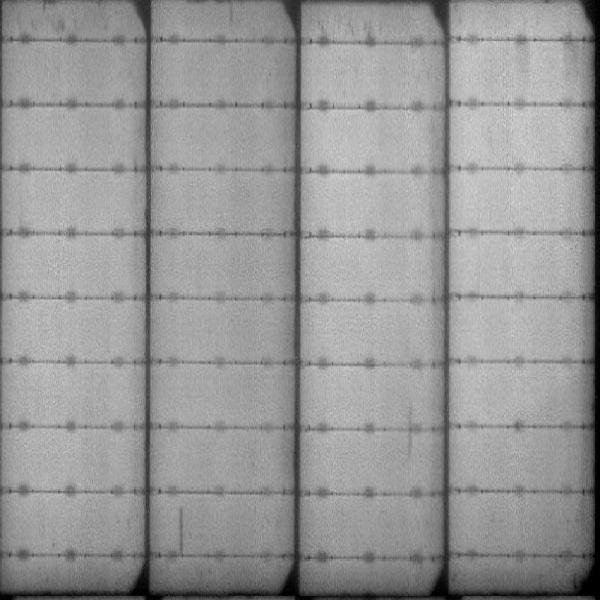scratch: (17, 1, 81, 34), (321, 18, 399, 37), (177, 506, 189, 558), (223, 4, 244, 24)
